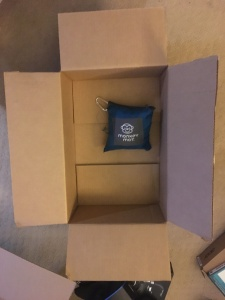innerbox: (61, 72, 167, 222)
outerbox: (3, 12, 217, 283)
product: (104, 101, 152, 152)
